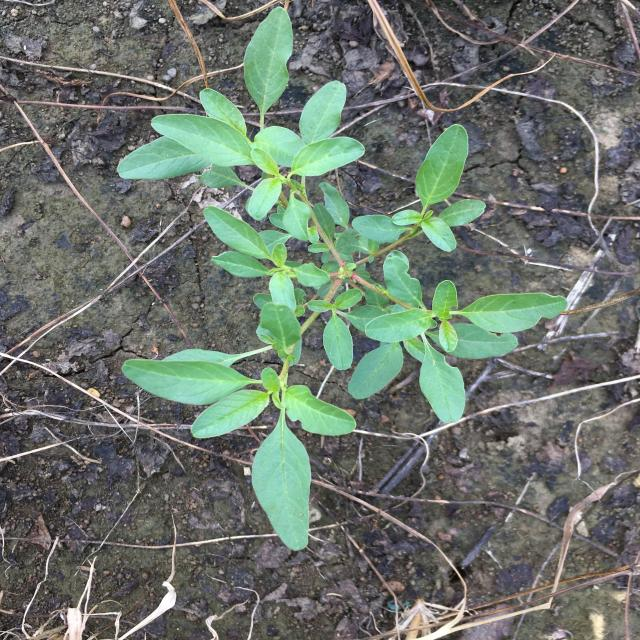Waterhemp: (116, 7, 568, 551)
